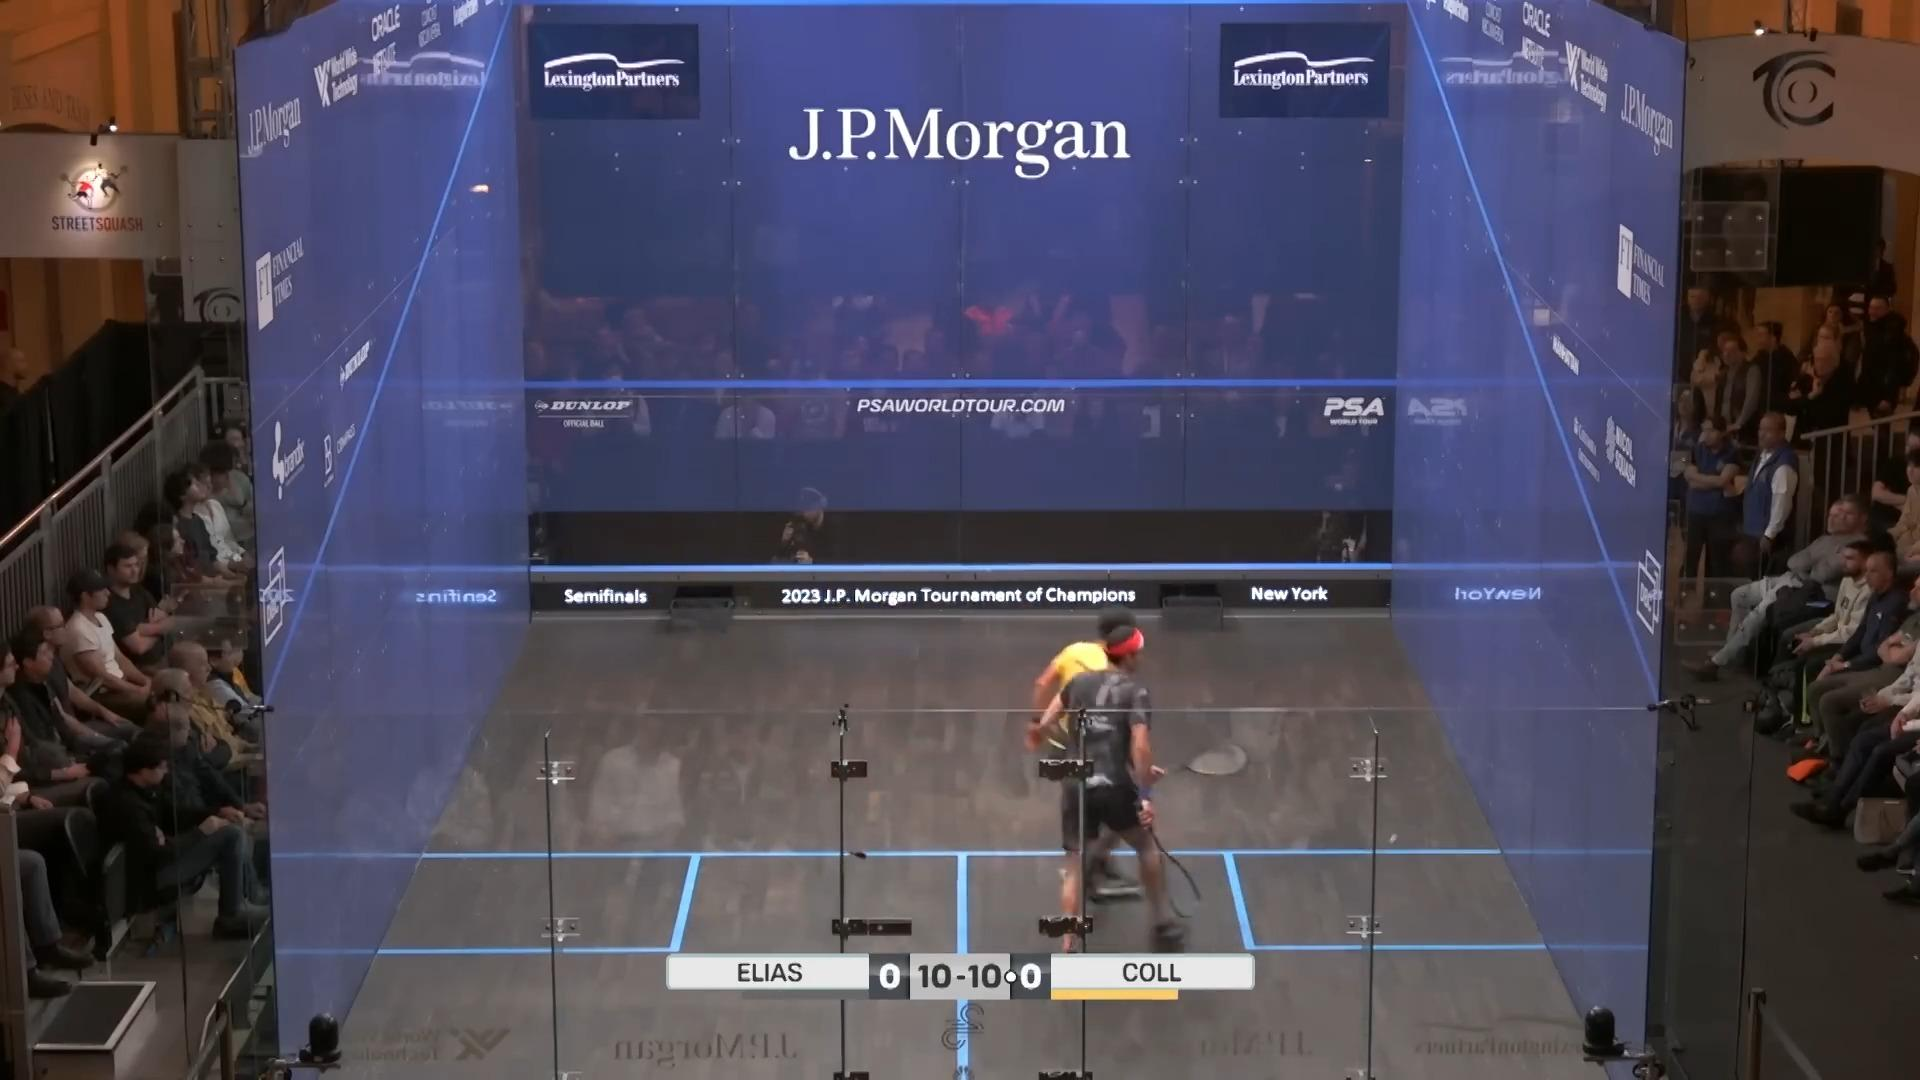Racket: (1138, 814, 1205, 926), (1156, 737, 1261, 786)
